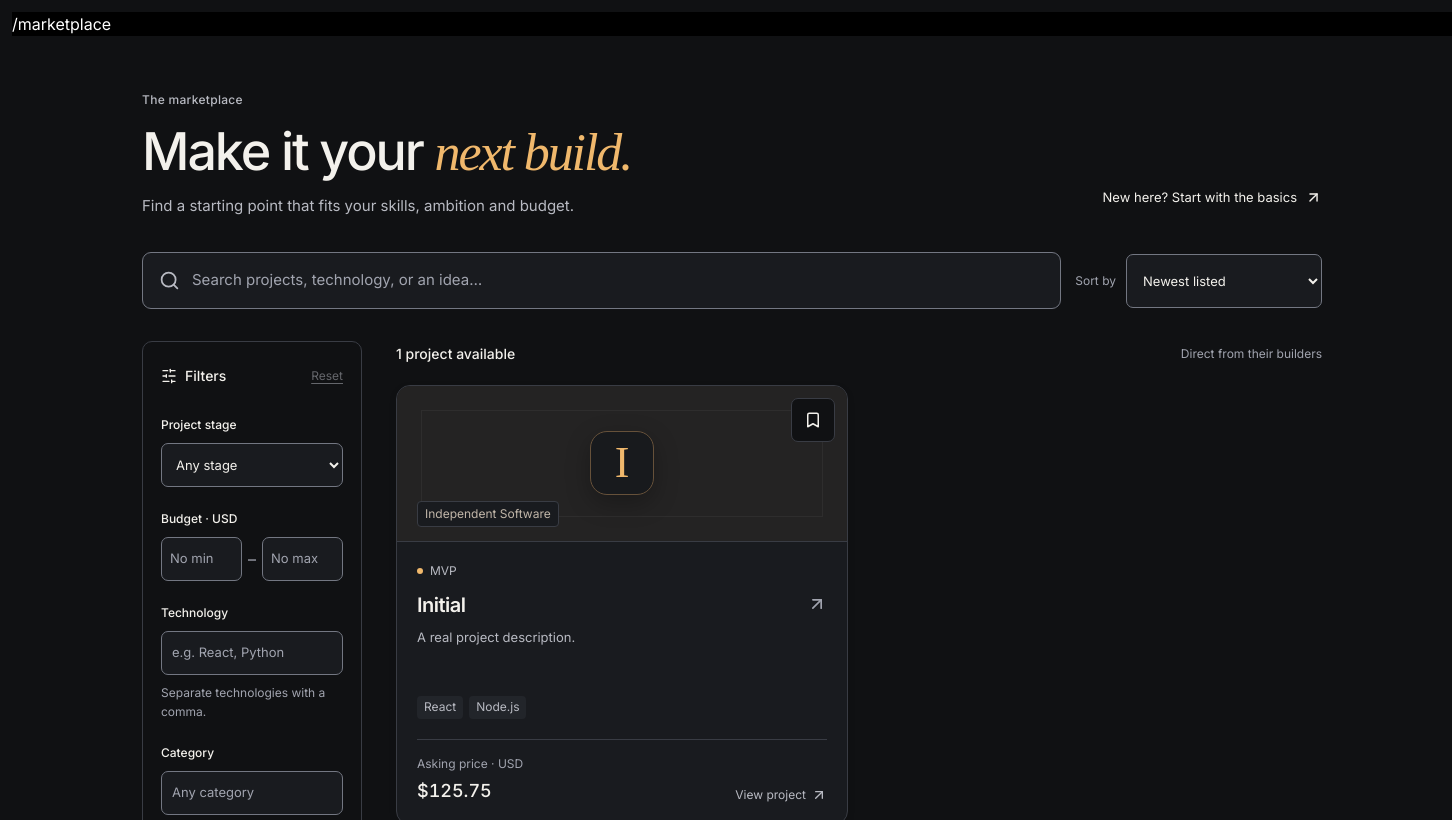
Scenario: a slow earlier search cannot replace newer results
Expected: the heading "Initial" is shown, [417, 592, 827, 618]
In the search field with placeholder "Search projects, technology, or an idea…": {"x": 618, "y": 281} [192, 253, 1044, 308], type "old"
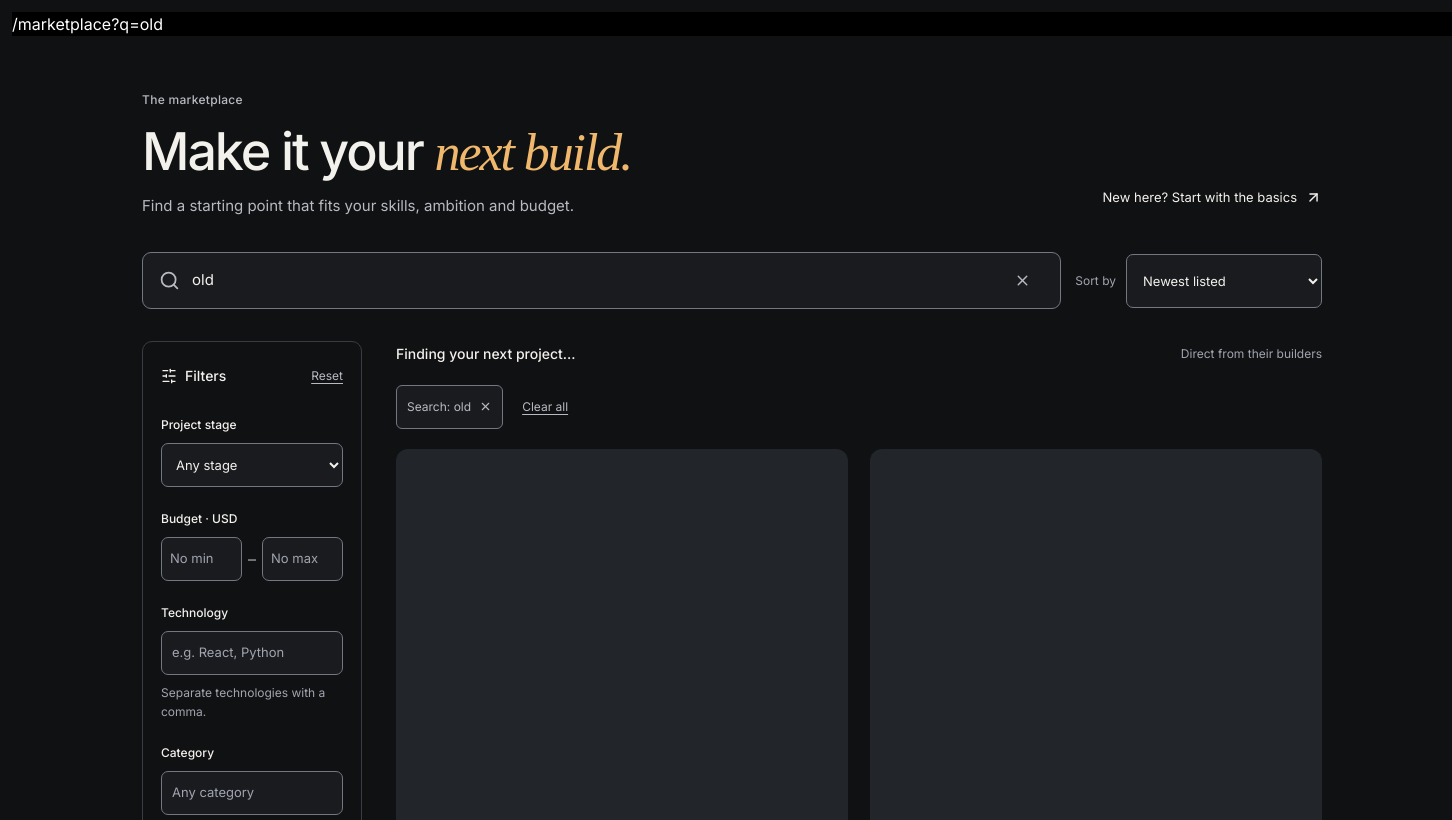
Replace the text in the search field named "Search marketplace" with "new": {"x": 590, "y": 281} [192, 253, 988, 308]
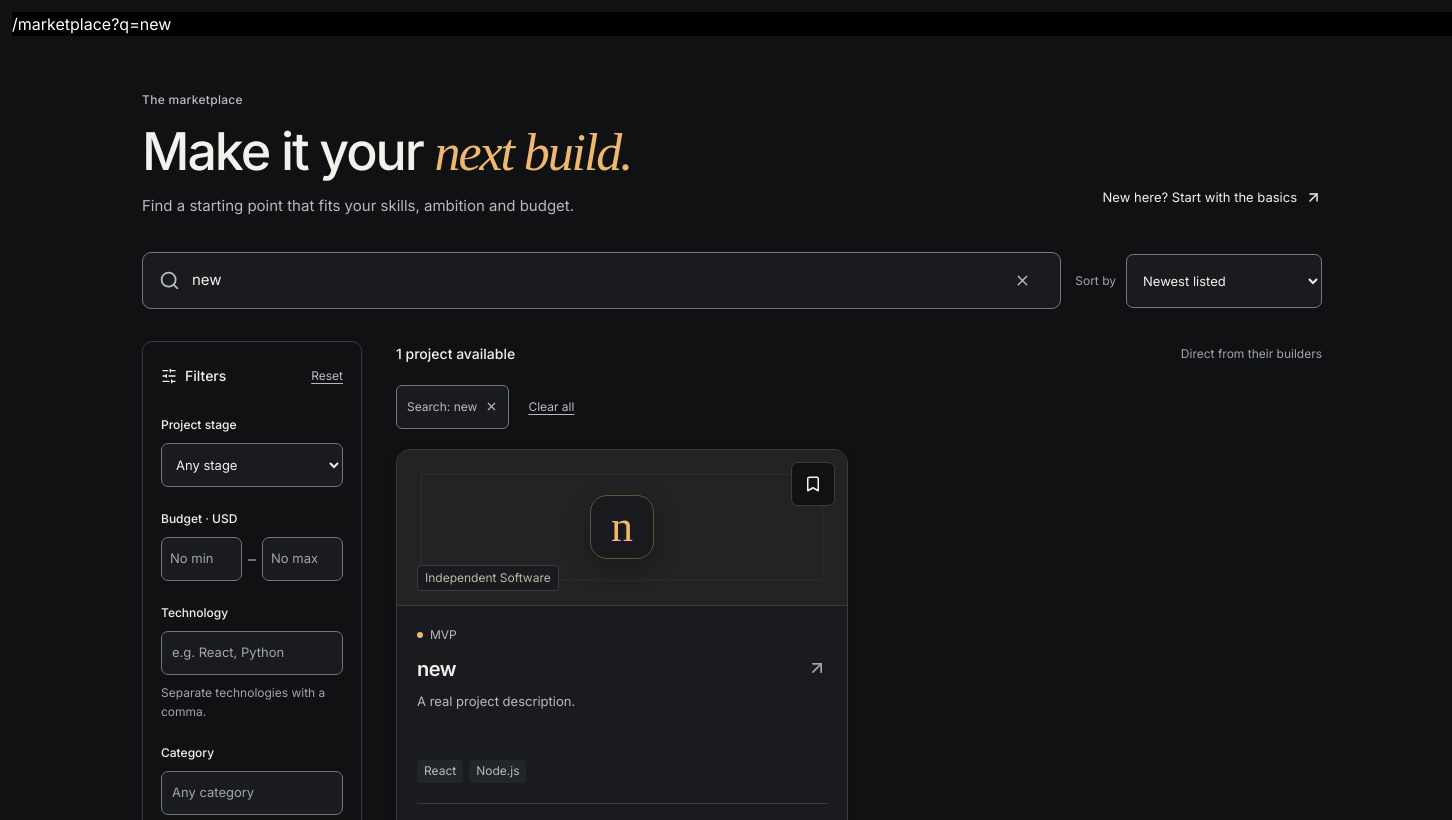
Expected: the heading "new" is shown, [417, 656, 827, 682]
